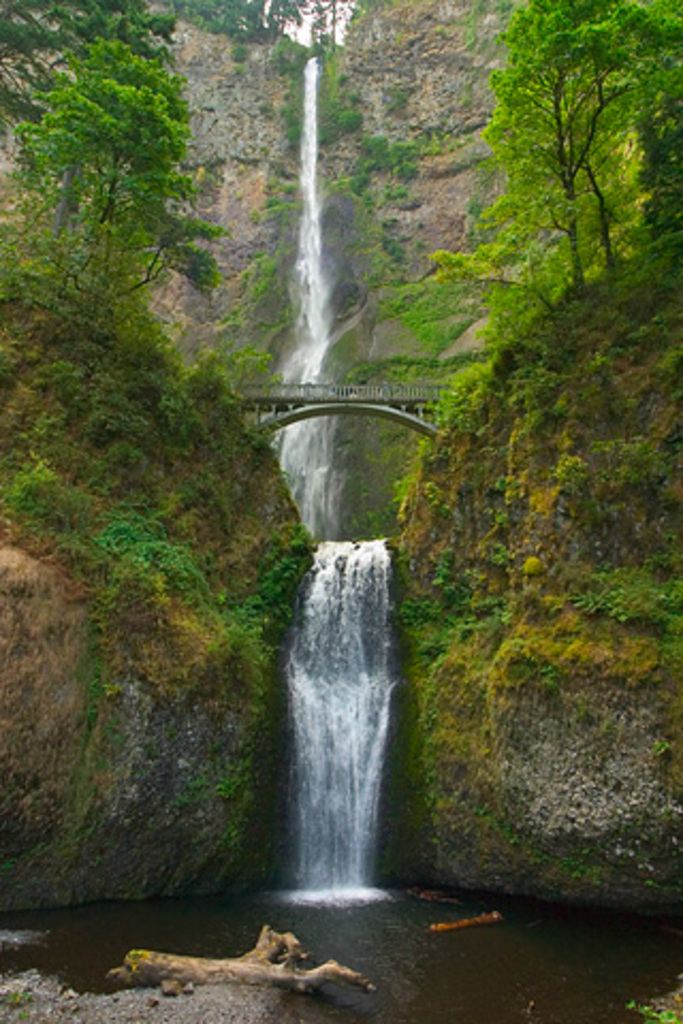Tree: (431, 0, 683, 288), (11, 46, 221, 311), (0, 0, 174, 119)
